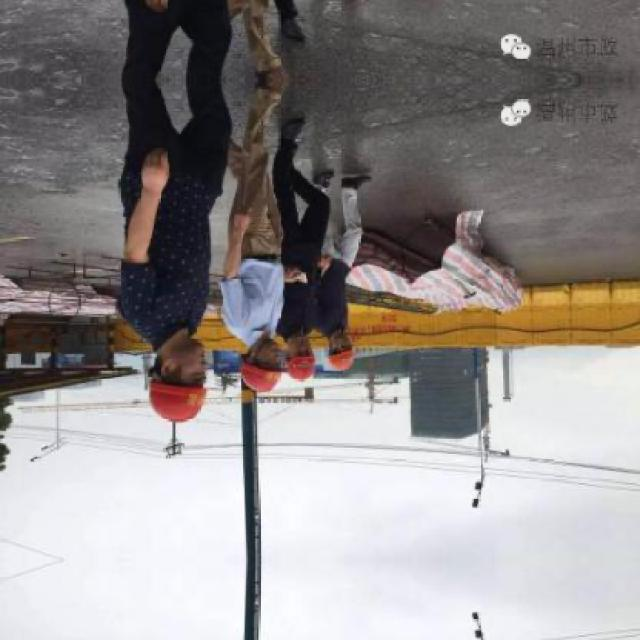con casco: (118, 329, 199, 428), (218, 321, 293, 416), (262, 320, 318, 395), (318, 317, 367, 374)
